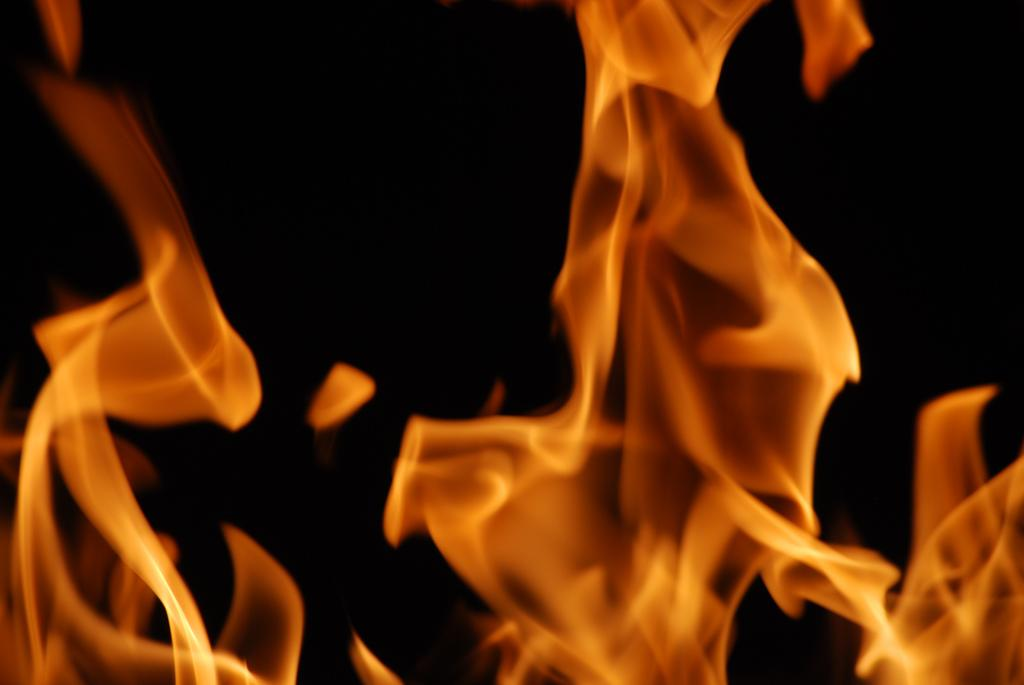fire: (595, 258, 817, 482), (20, 480, 182, 668), (595, 13, 723, 235), (417, 423, 583, 555), (82, 315, 242, 412)
